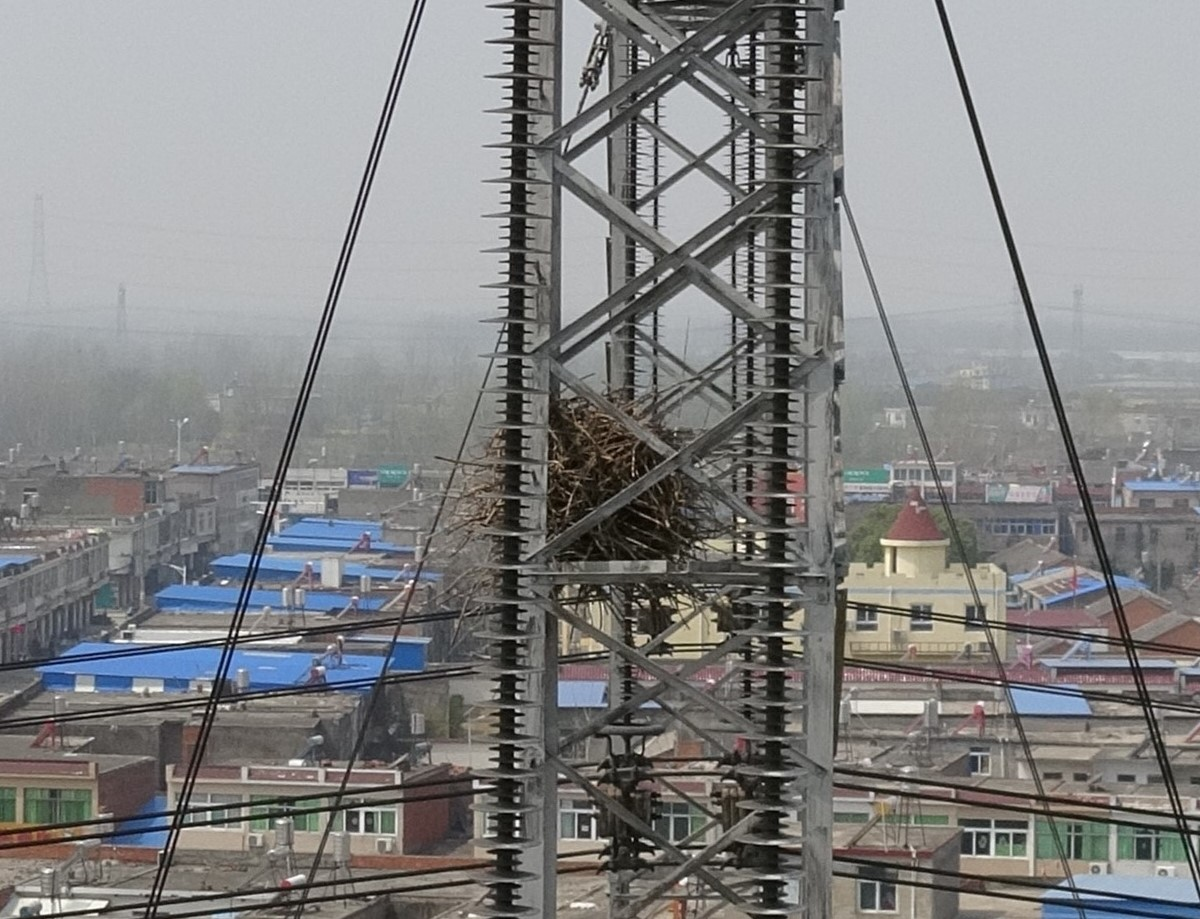niaowo: (464, 390, 717, 565)
